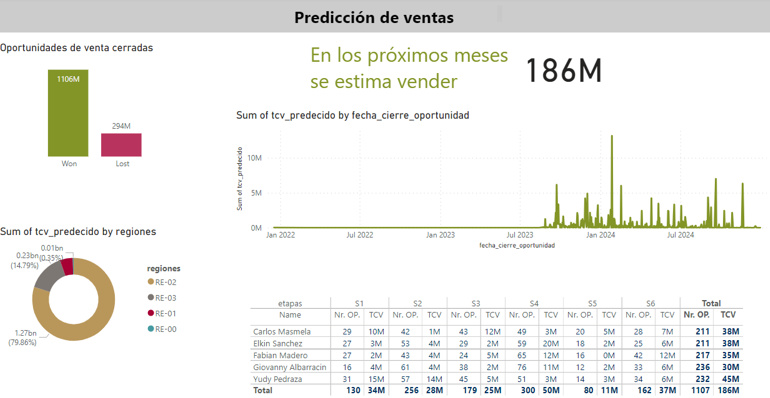

This screenshot's page, from the dashboard's own definition file:
{"tool":"powerbi","page":{"name":"Page 1","canvas":[1280,720],"ordinal":0},"visuals":[{"type":"shape","box":[0,0,1280,56.7],"z":0},{"type":"donutChart","fields":{"Category":["oportunidades.regiones"],"Y":["Sum(oportunidades.tcv_predecido)"]},"box":[0,309.9,320.6,219.4],"z":1000},{"type":"columnChart","title":"Oportunidades de venta cerradas","fields":{"Category":["oportunidades.etapas"],"Y":["Sum(oportunidades.tcv_predecido)"]},"box":[0,71.4,319.2,215.3],"z":2000},{"type":"pivotTable","fields":{"Columns":["oportunidades.etapas"],"Rows":["users.Name"],"Values":["Count(oportunidades.numero_opportunidad)","Sum(oportunidades.tcv_predecido)"]},"box":[403.5,478.2,876.5,172.2],"z":3000},{"type":"textbox","box":[474.6,7.4,345.5,41],"z":4000},{"type":"lineChart","fields":{"Category":["oportunidades.fecha_cierre_oportunidad"],"Y":["Sum(oportunidades.tcv_predecido)"]},"box":[381.7,179.4,877.5,230.3],"z":6000},{"type":"card","fields":{"Values":["Sum(oportunidades.tcv_predecido)"]},"box":[810.1,57.1,208.5,104.8],"z":7000},{"type":"textbox","box":[500.8,63.5,354,98.3],"z":8000},{"type":"tableEx","fields":{"Values":["oportunidades.numero_opportunidad","oportunidades.prediccion_modelo"]},"box":[0,522.1,300,197.9],"z":8001}]}

Visuals, with their boxes on the page's 1280x720 design canvas (x1, y1, x2, y2). These are canvas units, not pixel positions in the 770x398 screenshot, which may show the page scaled, cropped or inside an application window:
shape: left=0, top=0, right=1280, bottom=57
donutChart - oportunidades.regiones x Sum(oportunidades.tcv_predecido): left=0, top=310, right=321, bottom=529
"Oportunidades de venta cerradas" columnChart: left=0, top=71, right=319, bottom=287
pivotTable - oportunidades.etapas x users.Name: left=404, top=478, right=1280, bottom=650
textbox: left=475, top=7, right=820, bottom=48
lineChart - oportunidades.fecha_cierre_oportunidad x Sum(oportunidades.tcv_predecido): left=382, top=179, right=1259, bottom=410
card - Sum(oportunidades.tcv_predecido): left=810, top=57, right=1019, bottom=162
textbox: left=501, top=64, right=855, bottom=162
tableEx - oportunidades.numero_opportunidad x oportunidades.prediccion_modelo: left=0, top=522, right=300, bottom=720
